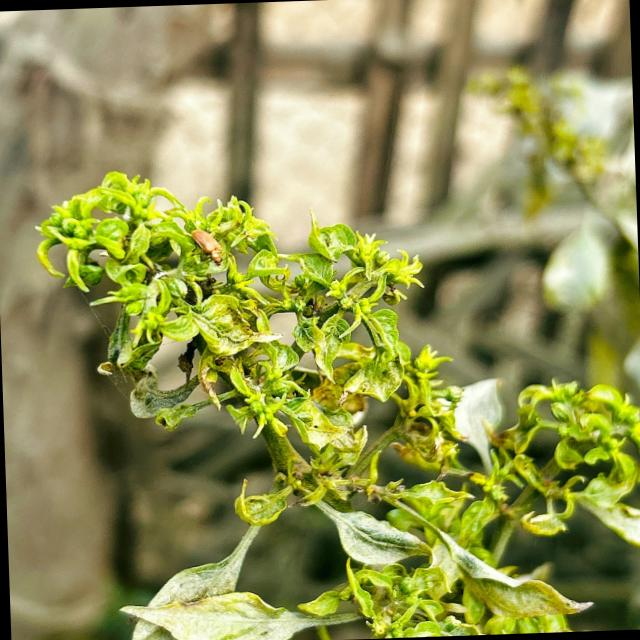Chilli_Leaf_Curl: (31, 151, 640, 640)
